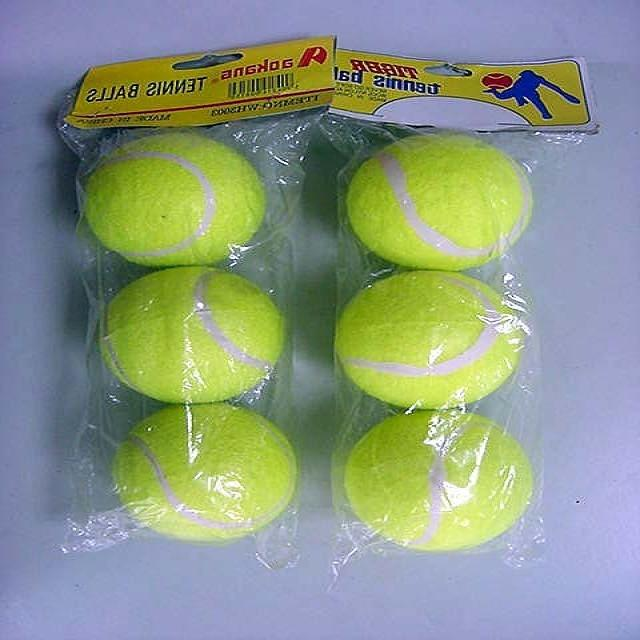Tennis Ball: (345, 399, 533, 553), (333, 269, 531, 413), (95, 267, 287, 406), (343, 134, 536, 271), (112, 404, 296, 543), (86, 135, 270, 266)
